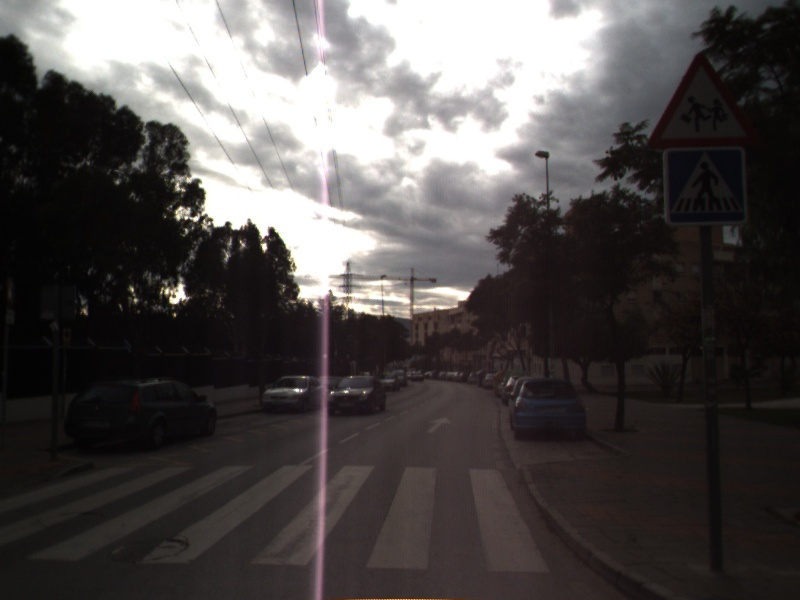STRAIGHT: (424, 415, 454, 435)
